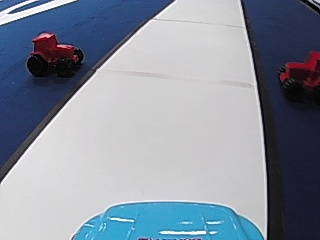tractor: (24, 29, 84, 78), (275, 48, 318, 102)
